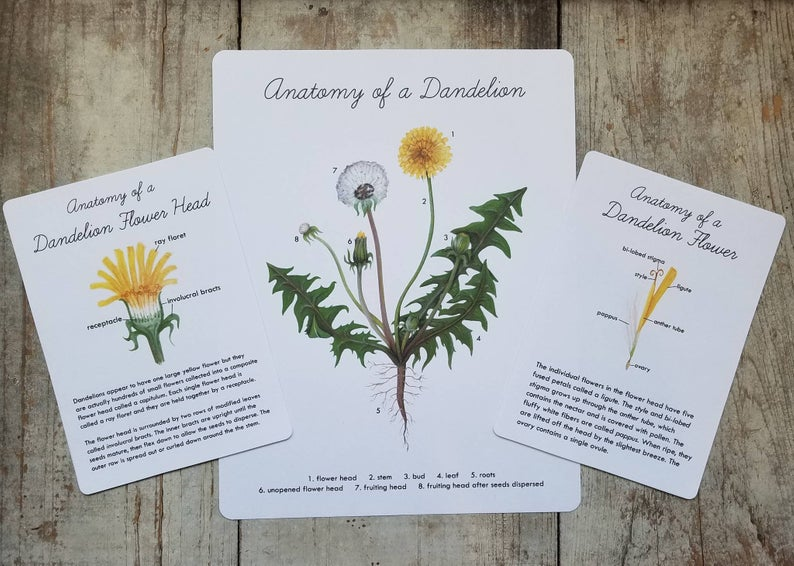dandelion: (398, 131, 453, 180)
